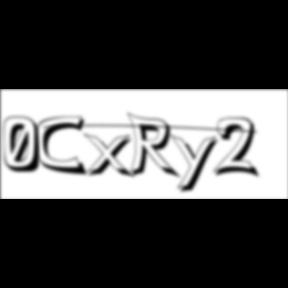0: (3, 115, 48, 174)
2: (214, 117, 264, 181)
C: (36, 115, 92, 178)
R: (128, 112, 184, 182)
x: (84, 132, 138, 181)
y: (170, 132, 224, 196)
